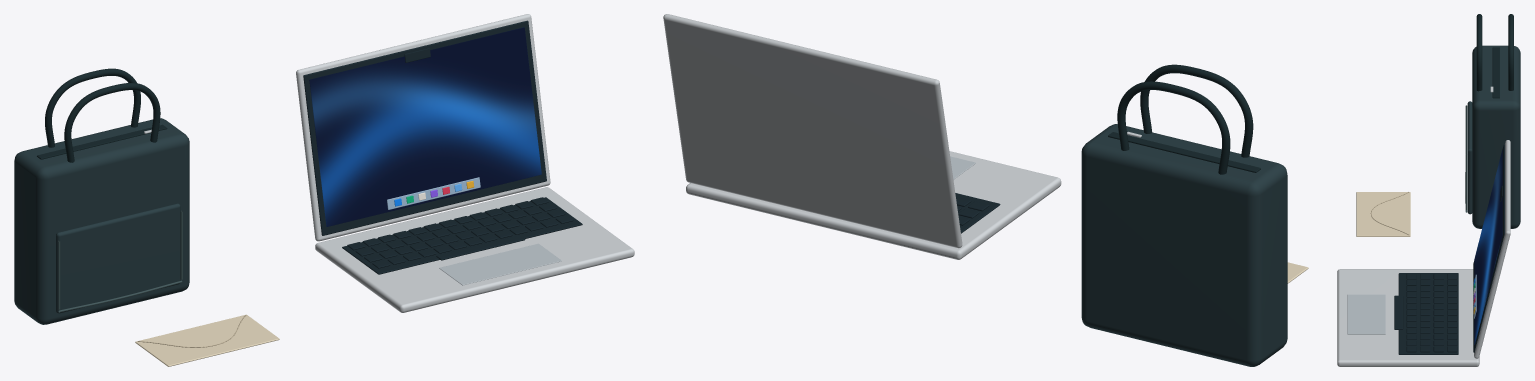
File: hero-grow.glb
3 renders of one model, left to right at view 1: azimuth 30°, elevation 25°; view 2: azimuth 150°, elevation 25°; view 3: azimuth 270°, elevation 25°, orthographic. The views are drawn at different scales.
Visible parts, largest first — view 1: Powered glass display, Canvas work bag, Laptop lower chassis, Front stitched pocket, Dark display bezel, Slim display housing, Plain pay envelope, Laptop keyboard well, Large inset trackpad, Leather handle, Leather handle.001, Desktop dock (+2 smaller); view 2: Slim display housing, Canvas work bag, Laptop lower chassis, Leather handle.001, Leather handle, Top zipper tape, Laptop keyboard well; view 3: Laptop lower chassis, Canvas work bag, Powered glass display, Plain pay envelope, Laptop keyboard well, Large inset trackpad, Slim display housing, Dark display bezel, Front stitched pocket, Leather handle, Leather handle.001, Top zipper tape (+2 smaller).
Boxes of the visible parts, x1,y1,x2,y2 form: Powered glass display: (309,27,541,226); Canvas work bag: (14,118,189,324); Laptop lower chassis: (315,187,634,312); Front stitched pocket: (56,203,180,313); Dark display bezel: (303,20,546,235); Slim display housing: (296,14,550,241); Plain pay envelope: (135,314,279,366); Laptop keyboard well: (342,197,582,274); Large inset trackpad: (439,243,561,285); Leather handle: (64,83,160,162); Leather handle.001: (45,68,140,147); Desktop dock: (387,177,480,209); Slim display housing: (663,14,962,248); Canvas work bag: (1081,124,1287,366); Laptop lower chassis: (686,151,1061,259); Leather handle.001: (1117,81,1230,174); Leather handle: (1140,64,1253,157); Top zipper tape: (1108,132,1260,172); Laptop keyboard well: (955,193,1000,233); Laptop lower chassis: (1337,269,1479,366); Canvas work bag: (1472,45,1520,228); Powered glass display: (1474,150,1502,344); Plain pay envelope: (1356,192,1410,236); Laptop keyboard well: (1398,273,1458,354); Large inset trackpad: (1347,294,1385,334); Slim display housing: (1474,140,1510,358); Dark display bezel: (1473,144,1504,352); Front stitched pocket: (1467,101,1472,214); Leather handle: (1476,14,1482,91); Leather handle.001: (1508,14,1513,90); Top zipper tape: (1492,47,1499,98).
Size of the model in its own units: 3.9 by 1.61 by 1.49.
Materials: 17 (1 with a texture image).
